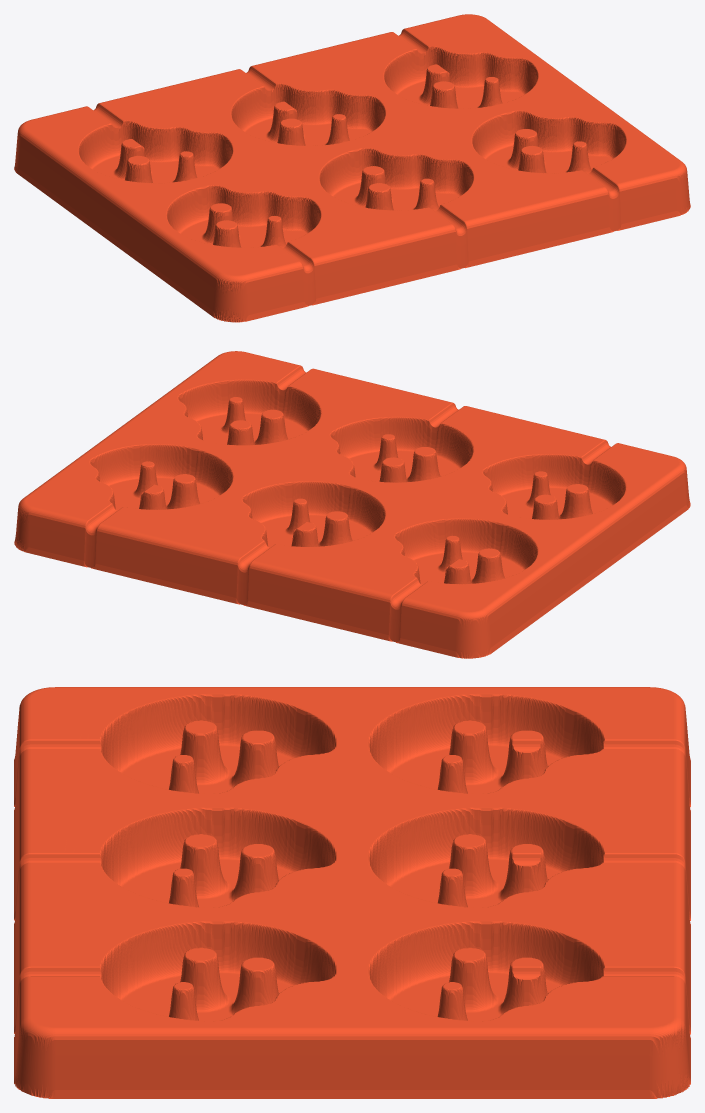
Rendered from mold.glb.
3 renders of one model, top to bottom at view 1: azimuth 30°, elevation 25°; view 2: azimuth 150°, elevation 25°; view 3: azimuth 270°, elevation 25°, orthographic. The views are drawn at different scales.
Visible parts, largest first — view 1: geometry_0; view 2: geometry_0; view 3: geometry_0.
Boxes of the visible parts, left/top/right/bottom form: geometry_0: left=14, top=14, right=690, bottom=322; geometry_0: left=14, top=351, right=690, bottom=658; geometry_0: left=14, top=687, right=690, bottom=1098.
Size of the model in its own units: 0.1824 by 0.0155 by 0.1477.
